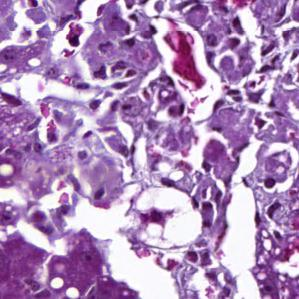ballooning: (125, 183, 205, 251)
